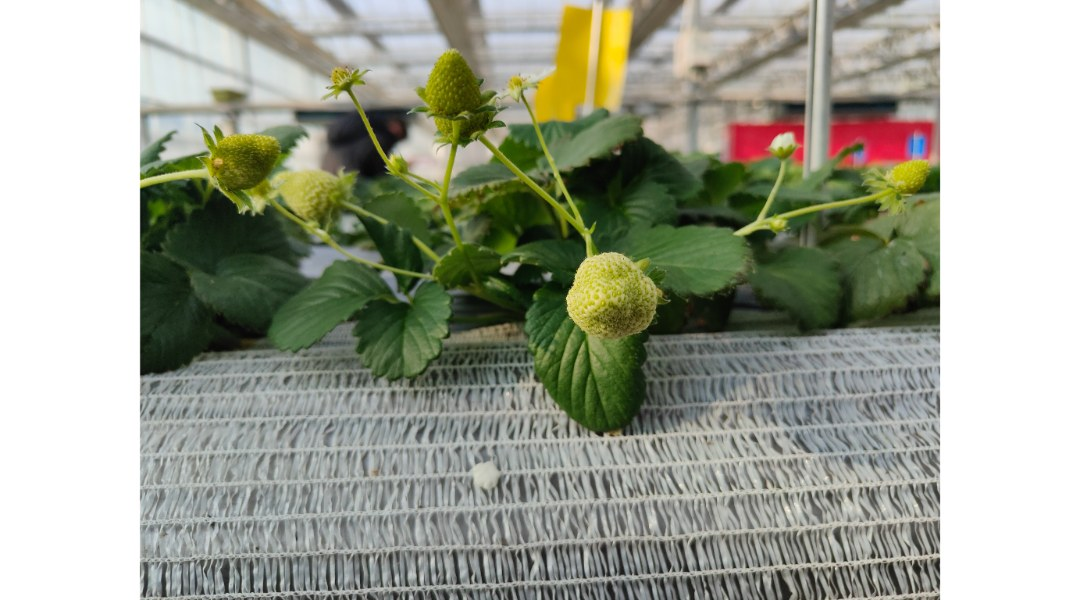berry: (558, 244, 666, 353), (186, 97, 278, 210), (410, 47, 493, 130), (871, 149, 943, 214), (278, 168, 358, 219), (429, 93, 492, 148), (319, 47, 377, 94)
flower: (764, 123, 792, 156)
strain: (474, 120, 581, 234), (525, 97, 586, 210), (331, 241, 427, 285), (357, 94, 400, 181), (782, 190, 888, 221), (428, 145, 461, 187), (440, 210, 455, 241)
